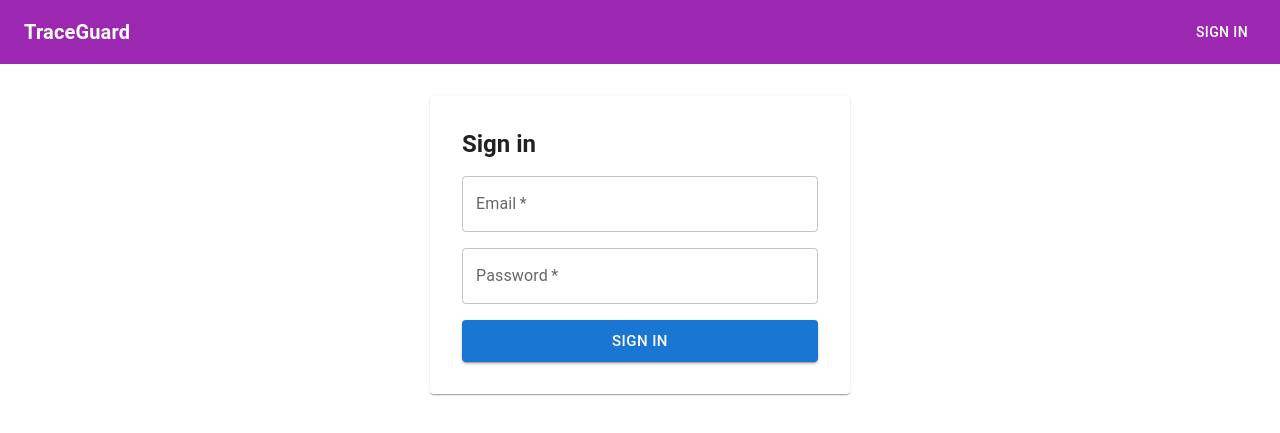
Test: login › signs in and lands on the dashboard
Type "user@test.local" into the field labelled "Email *".
click(640, 204); type("user@test.local")  # box 462,176 -> 818,232
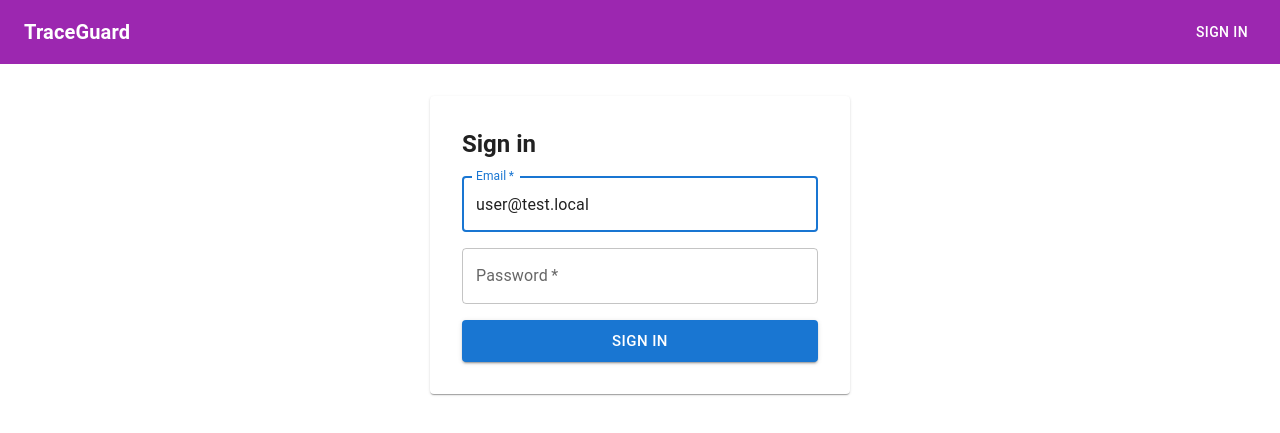
Type "Passw0rd!x" into the password field labelled "Password *".
click(640, 276); type("Passw0rd!x")  # box 462,248 -> 818,304
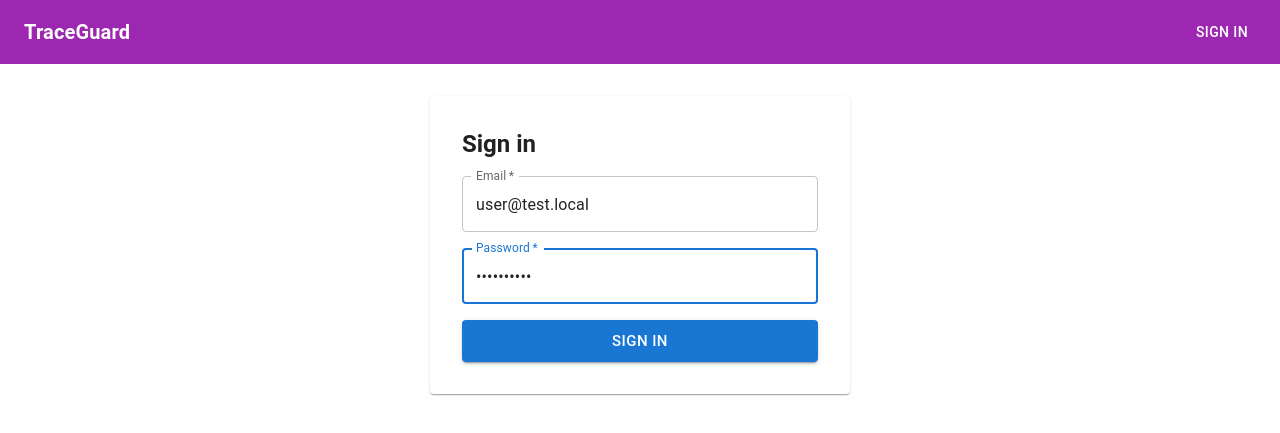
Click the button "Sign in".
click(640, 341)  # box 462,320 -> 818,362
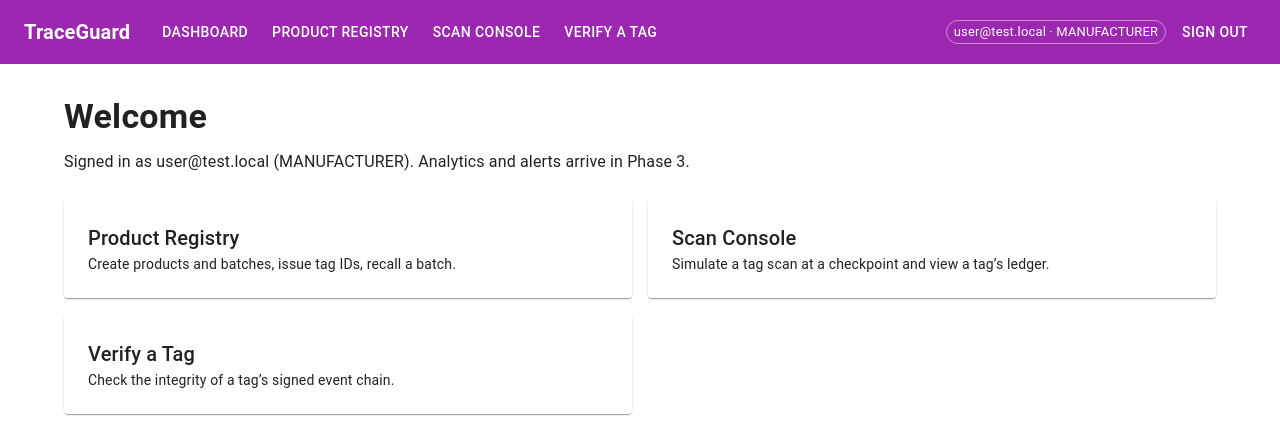
Check: the heading "Welcome" is shown, box 64,96 -> 207,136
